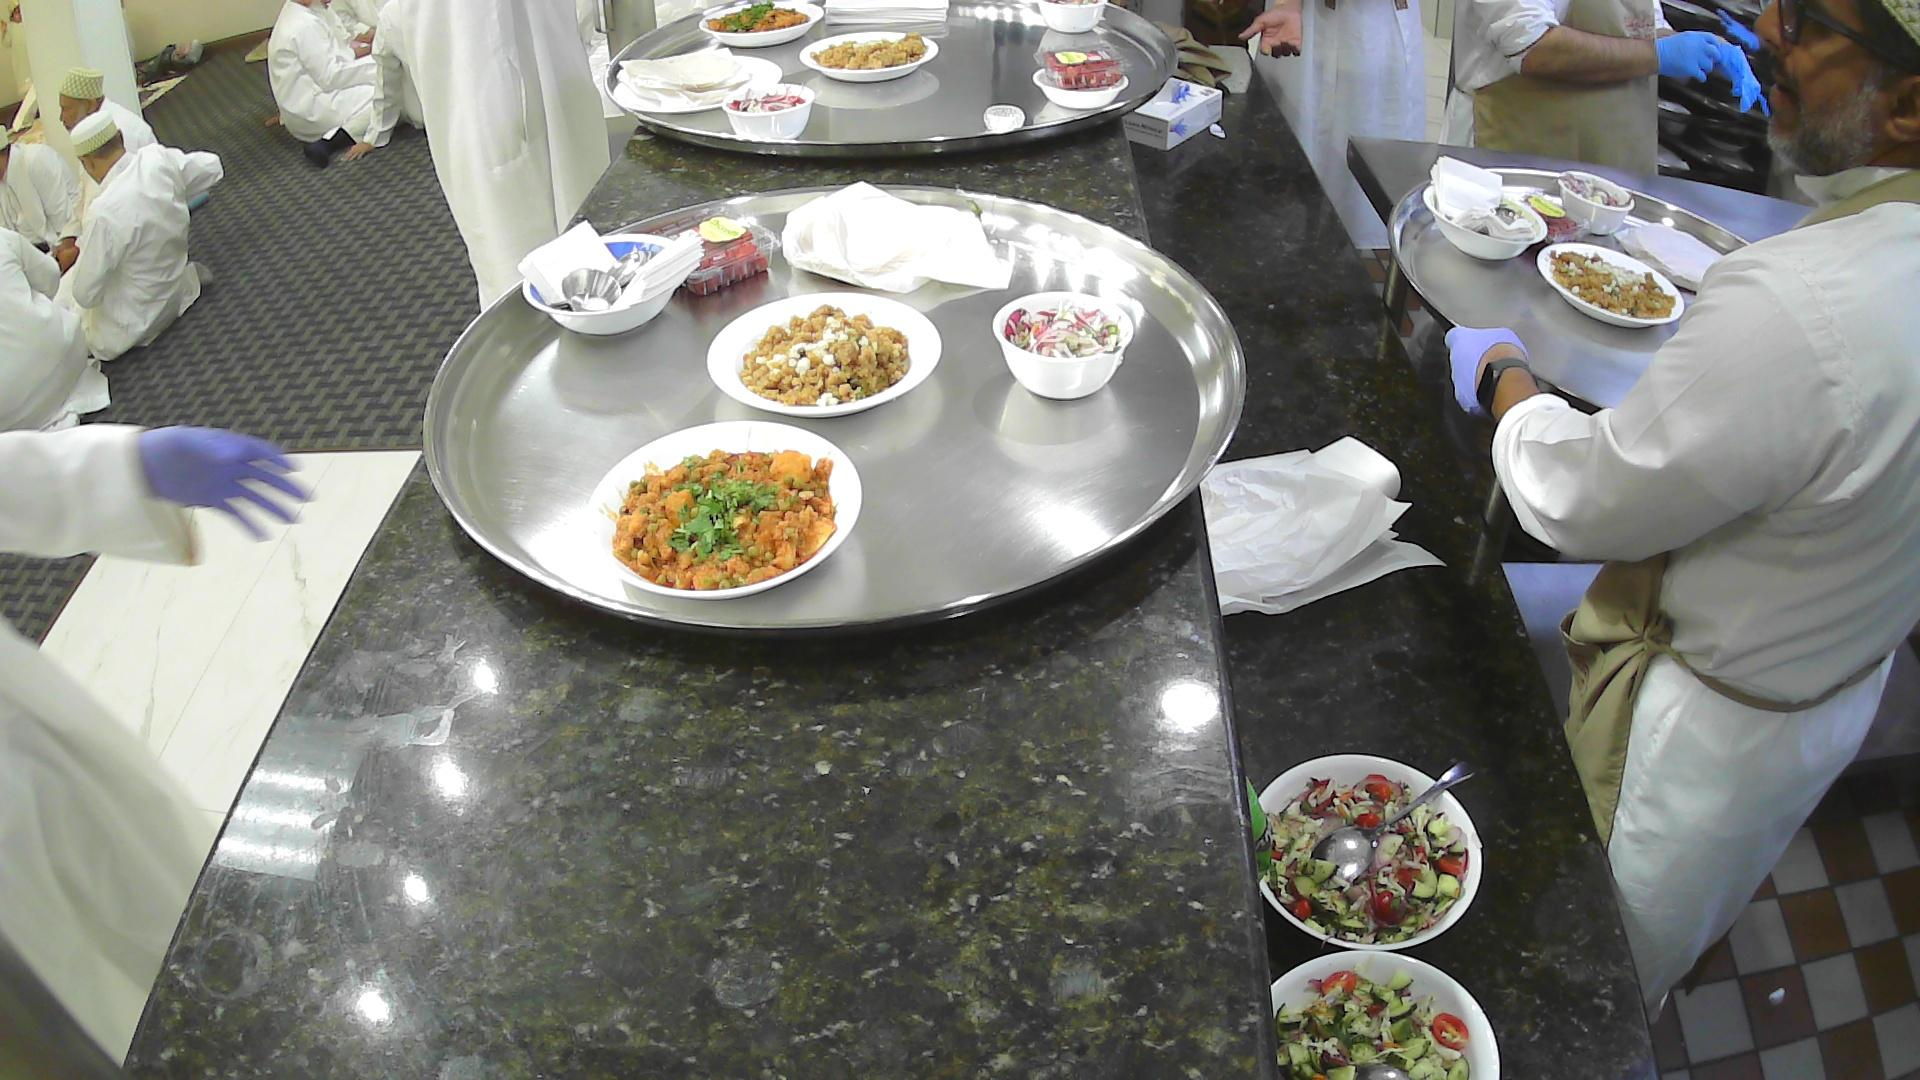thaal: (421, 182, 1251, 644), (601, 0, 1178, 162), (1385, 167, 1754, 418)
